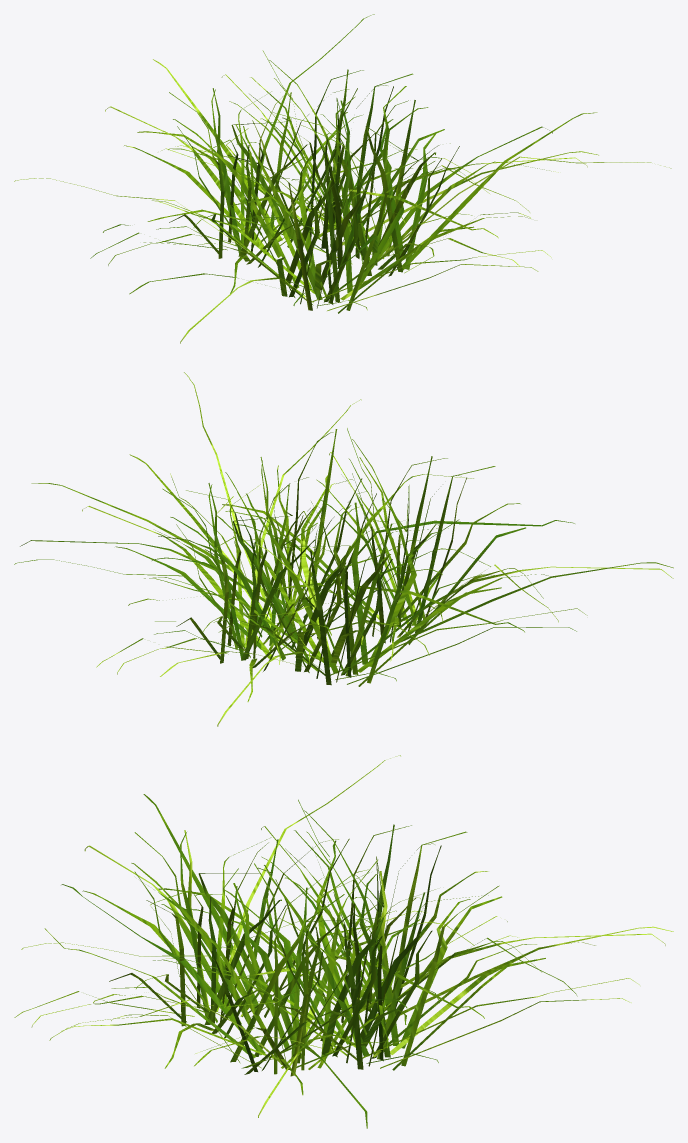
Rendered from grass_psx.glb.
The picture shows the model from 3 angles, top to bottom: view 1: azimuth 30°, elevation 25°; view 2: azimuth 150°, elevation 25°; view 3: azimuth 270°, elevation 25°; orthographic projection. The views are drawn at different scales.
Parts seen in each view (by area): view 1: GRASS; view 2: GRASS; view 3: GRASS.
Boxes of the visible parts, box(x1,y1,x2,y2) form: GRASS: box(14, 14, 671, 343); GRASS: box(14, 372, 673, 726); GRASS: box(14, 755, 673, 1128).
Bounding box in the file's own units: 4.42 × 1.18 × 4.07.
Materials: 1 (1 with a texture image).
